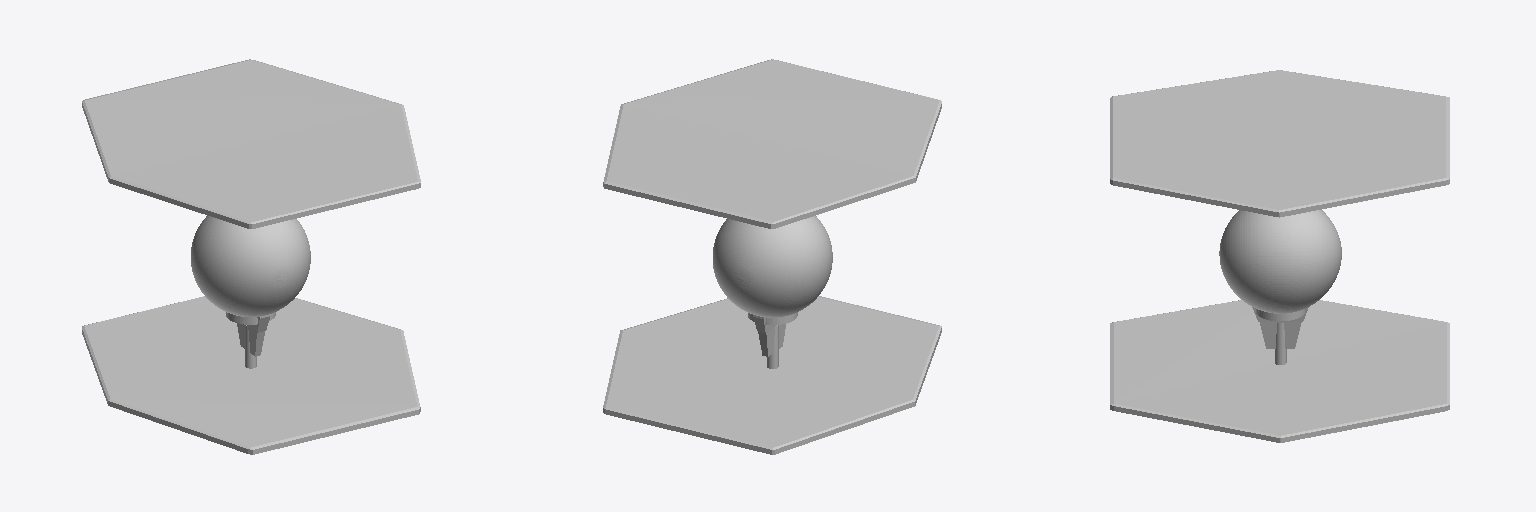
The model's file is tie.obj.
3 renders of one model, left to right at view 1: azimuth 30°, elevation 25°; view 2: azimuth 150°, elevation 25°; view 3: azimuth 270°, elevation 25°, orthographic.
Parts seen in each view (by area): view 1: Cube.002, Cube.001, Cube; view 2: Cube.002, Cube.001, Cube; view 3: Cube.002, Cube.001, Cube.
Part boxes in pixels (left/top/right/bottom): Cube.002: left=82, top=59, right=420, bottom=228; Cube.001: left=82, top=296, right=420, bottom=454; Cube: left=191, top=215, right=310, bottom=316; Cube.002: left=603, top=59, right=941, bottom=228; Cube.001: left=603, top=296, right=941, bottom=454; Cube: left=713, top=216, right=832, bottom=317; Cube.002: left=1110, top=70, right=1449, bottom=217; Cube.001: left=1110, top=300, right=1449, bottom=442; Cube: left=1219, top=210, right=1341, bottom=313.
Bounding box in the file's own units: 13.58 × 10.24 × 13.55.